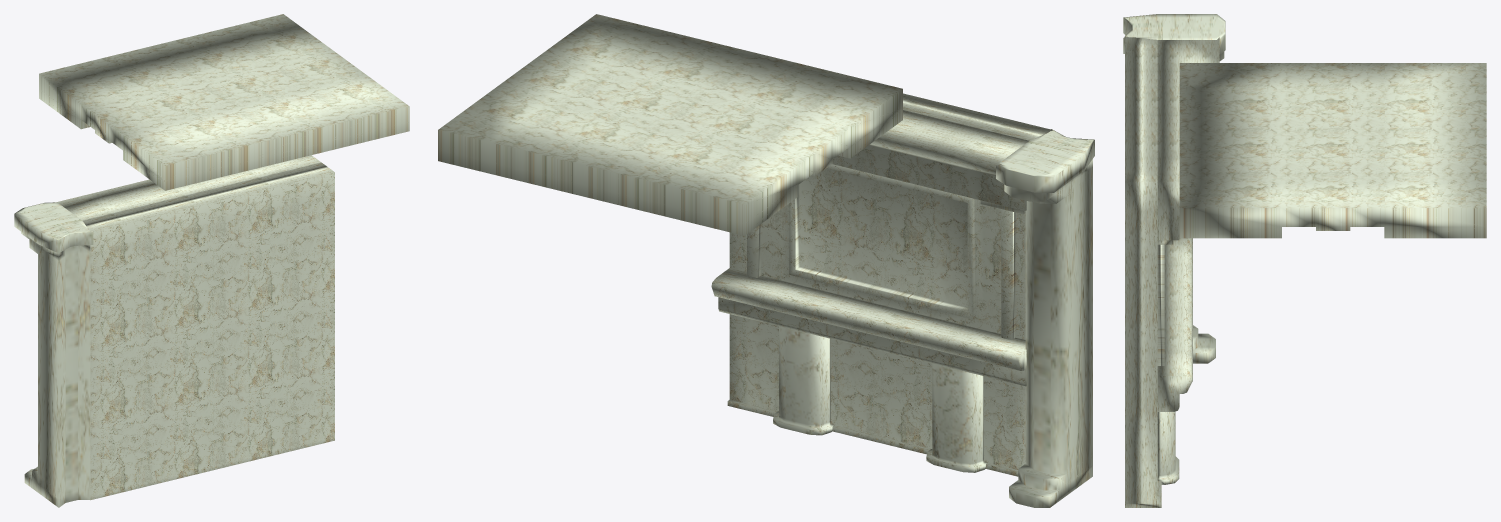
The model's file is walls + roof + collum.glb.
The picture shows the model from 3 angles, left to right: view 1: azimuth 30°, elevation 25°; view 2: azimuth 150°, elevation 25°; view 3: azimuth 270°, elevation 25°; orthographic projection. The views are drawn at different scales.
Visible parts, largest first — view 1: Cube, Cube.003, Cube.001; view 2: Cube, Cube.003, Cube.001; view 3: Cube.003, Cube, Cube.001.
Boxes of the visible parts, box(x1,y1,x2,y2) form: Cube: box(52, 155, 334, 500); Cube.003: box(39, 14, 409, 190); Cube.001: box(14, 202, 93, 507); Cube: box(711, 93, 1052, 476); Cube.003: box(438, 14, 902, 235); Cube.001: box(996, 129, 1094, 507); Cube.003: box(1179, 63, 1486, 238); Cube: box(1125, 36, 1219, 507); Cube.001: box(1123, 14, 1225, 363).
Bounding box in the file's own units: 5.16 × 3.81 × 3.51.
Materials: 1 (1 with a texture image).
